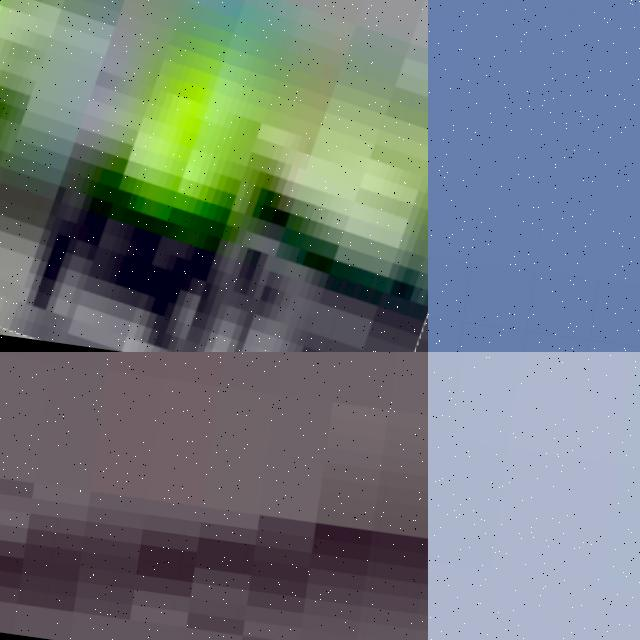drone: (0, 0, 428, 352)
